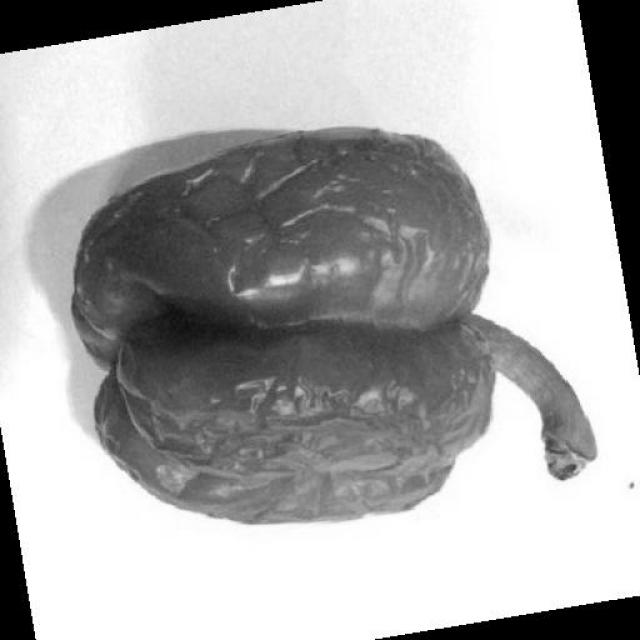Stale_Capsicum: (78, 105, 596, 553)
